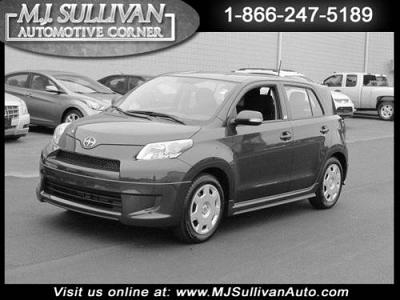car: (37, 71, 352, 247)
